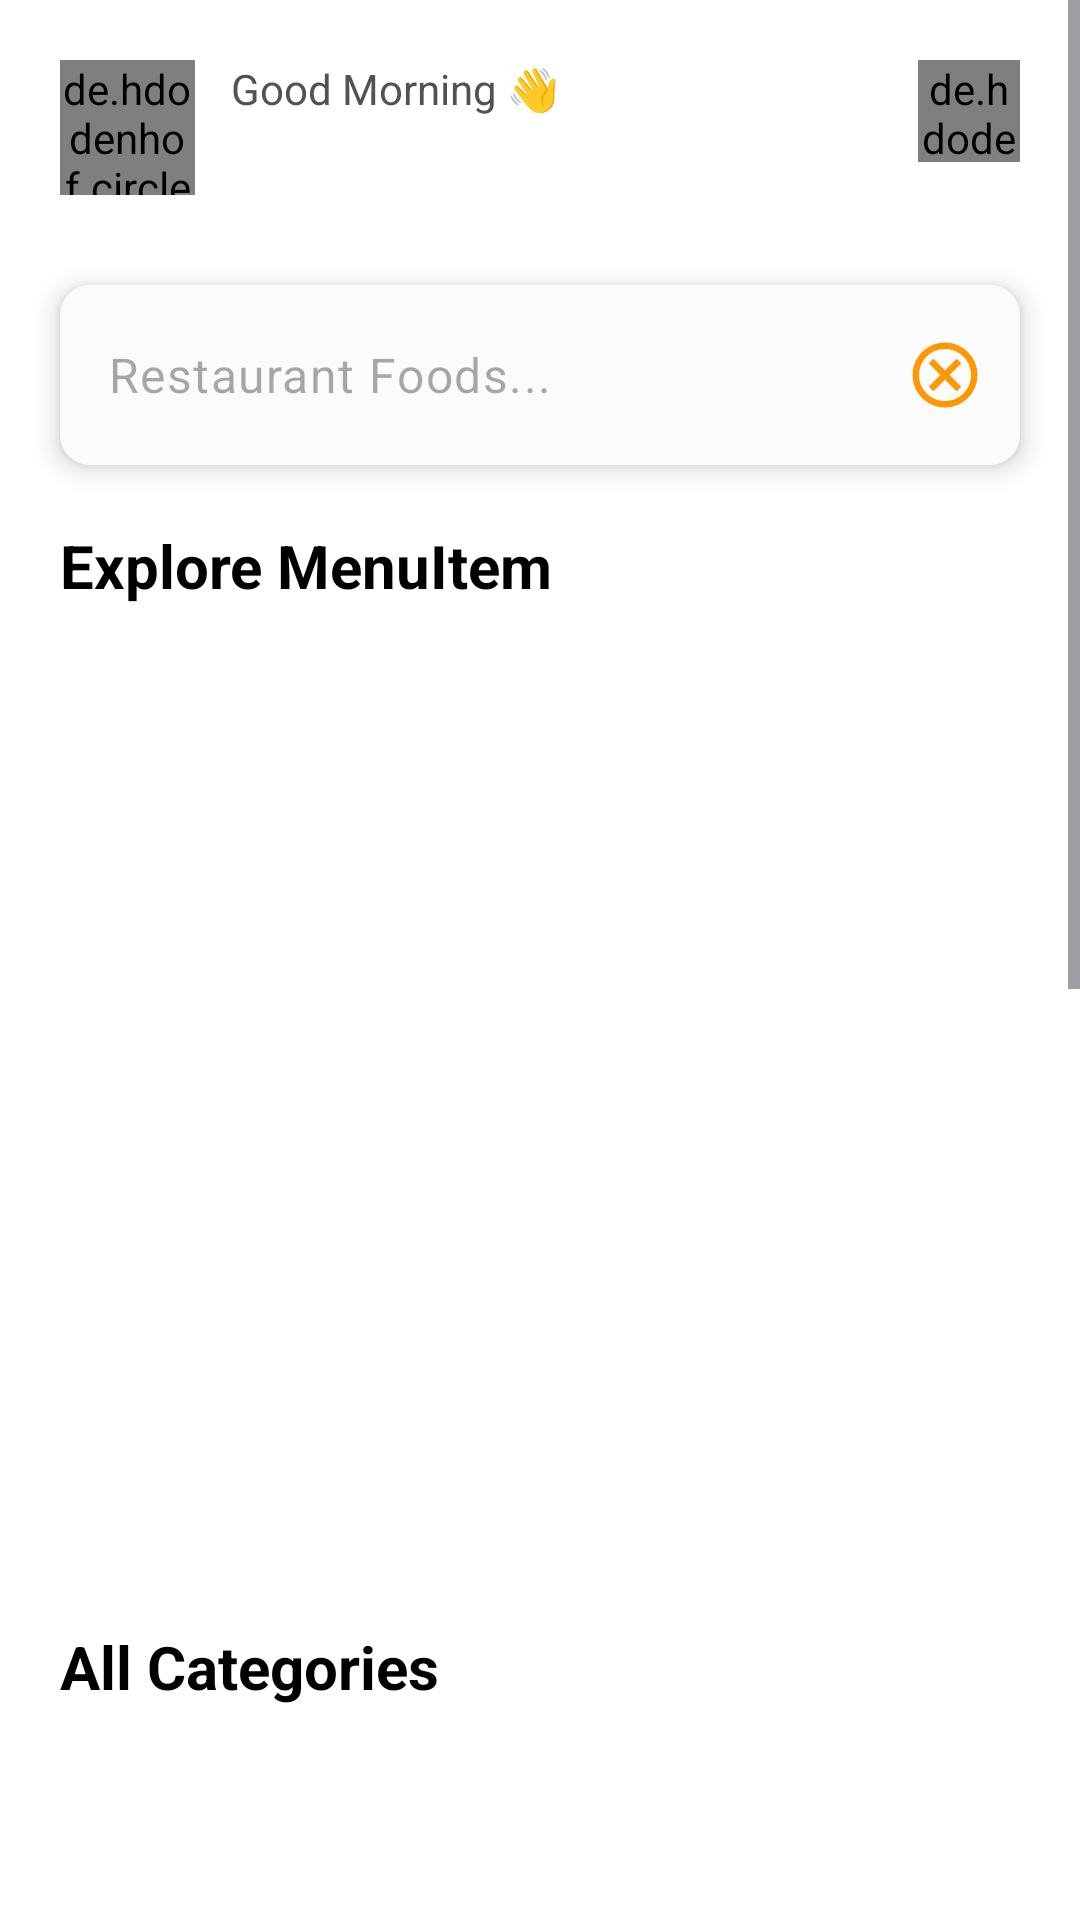

Locate icon controls on the screen. Image size 1080x1920, boxes as (x1, y1, x2, y2).
cancel: (912, 342, 978, 408)
